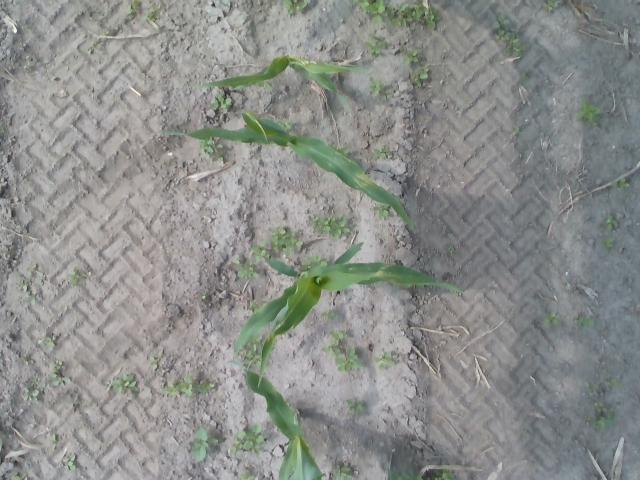Maize: (234, 242, 464, 390), (157, 112, 413, 228), (243, 369, 325, 480), (200, 55, 364, 102)
Weeds: (388, 3, 442, 29), (490, 15, 519, 53), (230, 425, 264, 452), (189, 429, 217, 461), (163, 378, 215, 393), (359, 0, 387, 27), (312, 216, 348, 236), (335, 348, 360, 371), (576, 104, 602, 126), (111, 376, 139, 395), (50, 360, 70, 386), (95, 7, 111, 35), (268, 228, 288, 250), (199, 139, 222, 157), (210, 96, 232, 112), (284, 0, 307, 15), (376, 352, 394, 370), (237, 262, 257, 278), (286, 238, 304, 255), (411, 68, 429, 84), (22, 388, 40, 404), (128, 1, 142, 21), (63, 455, 79, 472), (368, 78, 383, 96), (346, 398, 365, 412), (390, 472, 423, 480), (240, 466, 258, 480), (365, 40, 383, 54), (371, 148, 389, 161), (374, 205, 390, 219), (402, 49, 418, 63), (306, 255, 326, 266), (334, 466, 352, 478), (19, 280, 32, 296), (592, 416, 612, 426), (40, 336, 58, 347), (67, 268, 79, 284), (544, 313, 561, 324), (88, 42, 104, 53), (324, 343, 340, 354), (604, 214, 618, 226), (576, 312, 588, 326), (322, 310, 336, 322), (254, 249, 268, 260), (435, 471, 451, 480), (22, 357, 36, 366), (332, 331, 346, 340), (619, 178, 629, 190), (247, 343, 257, 353), (604, 239, 614, 249), (149, 356, 159, 366), (596, 403, 606, 412), (283, 120, 292, 130), (448, 244, 456, 254), (610, 377, 618, 386), (148, 12, 156, 20), (544, 0, 556, 5), (52, 436, 56, 450), (514, 127, 520, 136)
